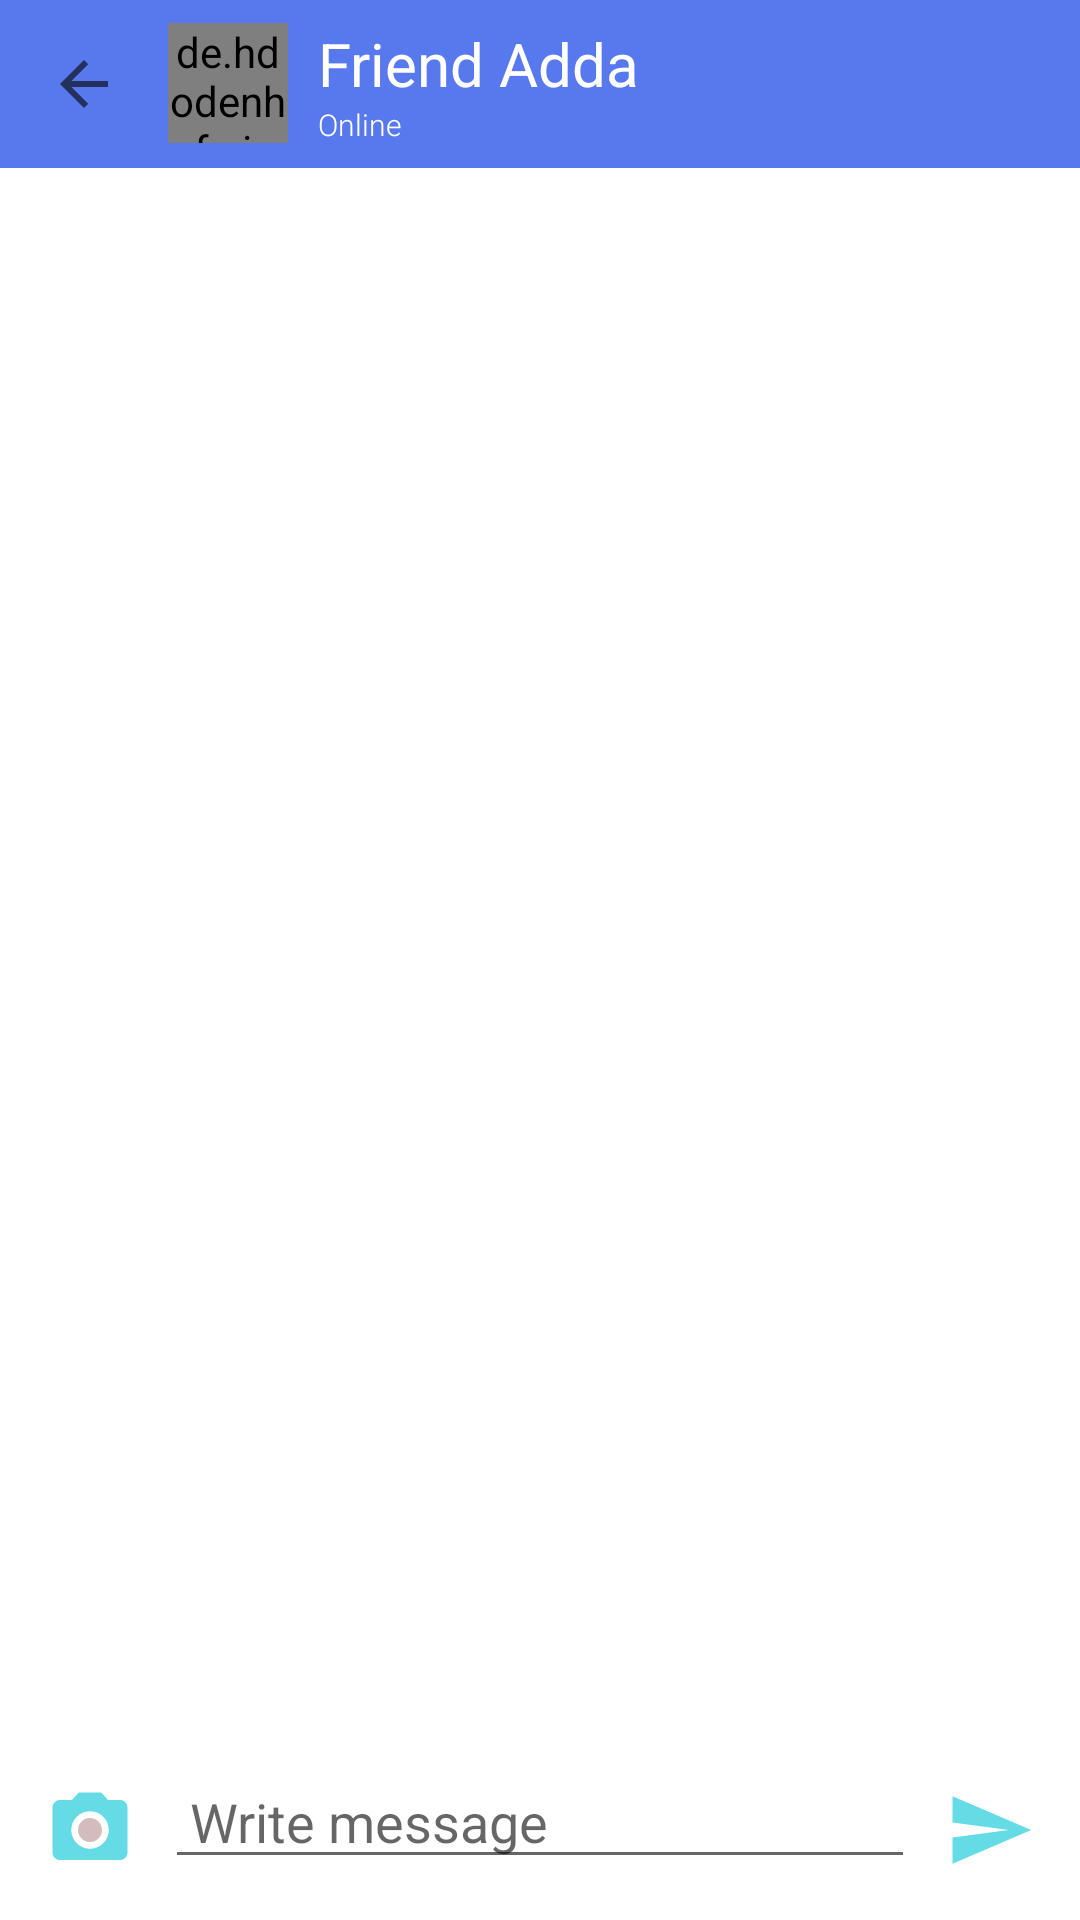

Named icons in this screenshot (1080x1920) and their bounding boxes, BBox(x1, y1, x2, y2):
photo camera: BBox(52, 1792, 128, 1860)
send: BBox(952, 1796, 1031, 1864)
